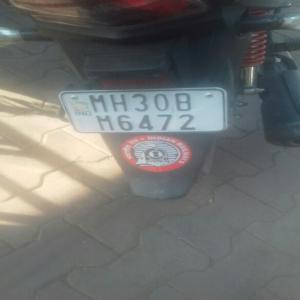Plate: (62, 89, 223, 133)
